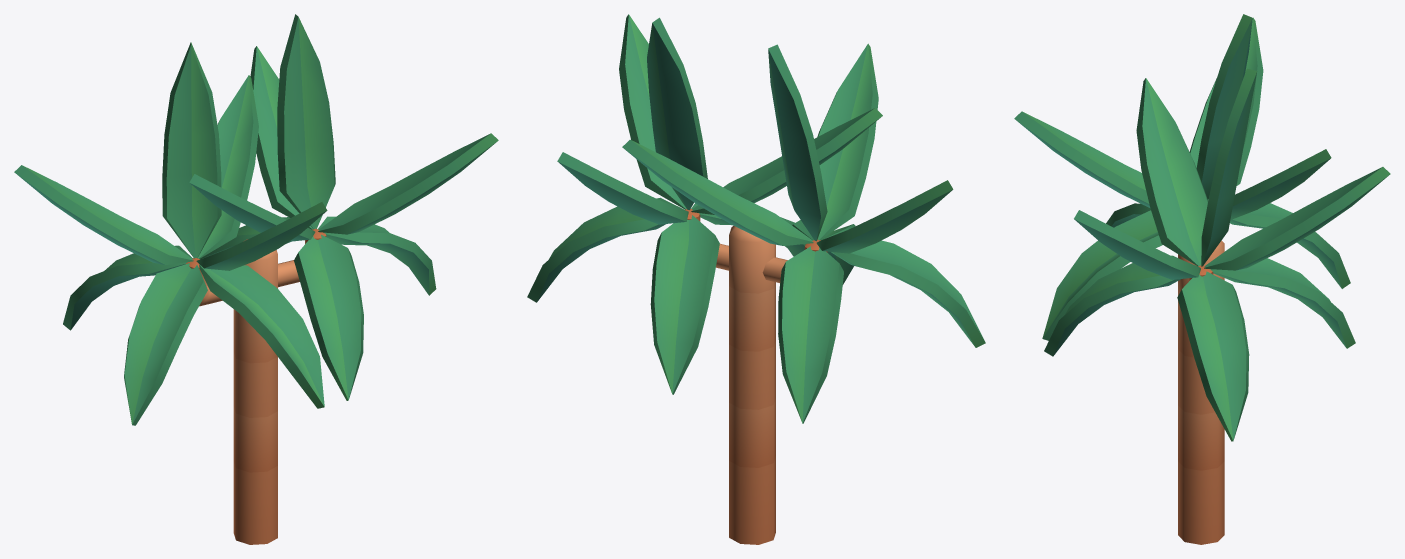
Rendered from house_plants_plants_yucca_branch_mmihqpcktl.glb.
The picture shows the model from 3 angles, left to right: view 1: azimuth 30°, elevation 25°; view 2: azimuth 150°, elevation 25°; view 3: azimuth 270°, elevation 25°; orthographic projection. The views are drawn at different scales.
Parts seen in each view (by area): view 1: yucca_branch_medium_B; view 2: yucca_branch_medium_B; view 3: yucca_branch_medium_B.
Boxes of the visible parts, x1,y1,x2,y2 form: yucca_branch_medium_B: (14,14,498,544); yucca_branch_medium_B: (527,14,985,544); yucca_branch_medium_B: (1014,14,1390,544).
Bounding box in the file's own units: 1.22 × 1.37 × 0.9402.
1 material, 1 textured.
